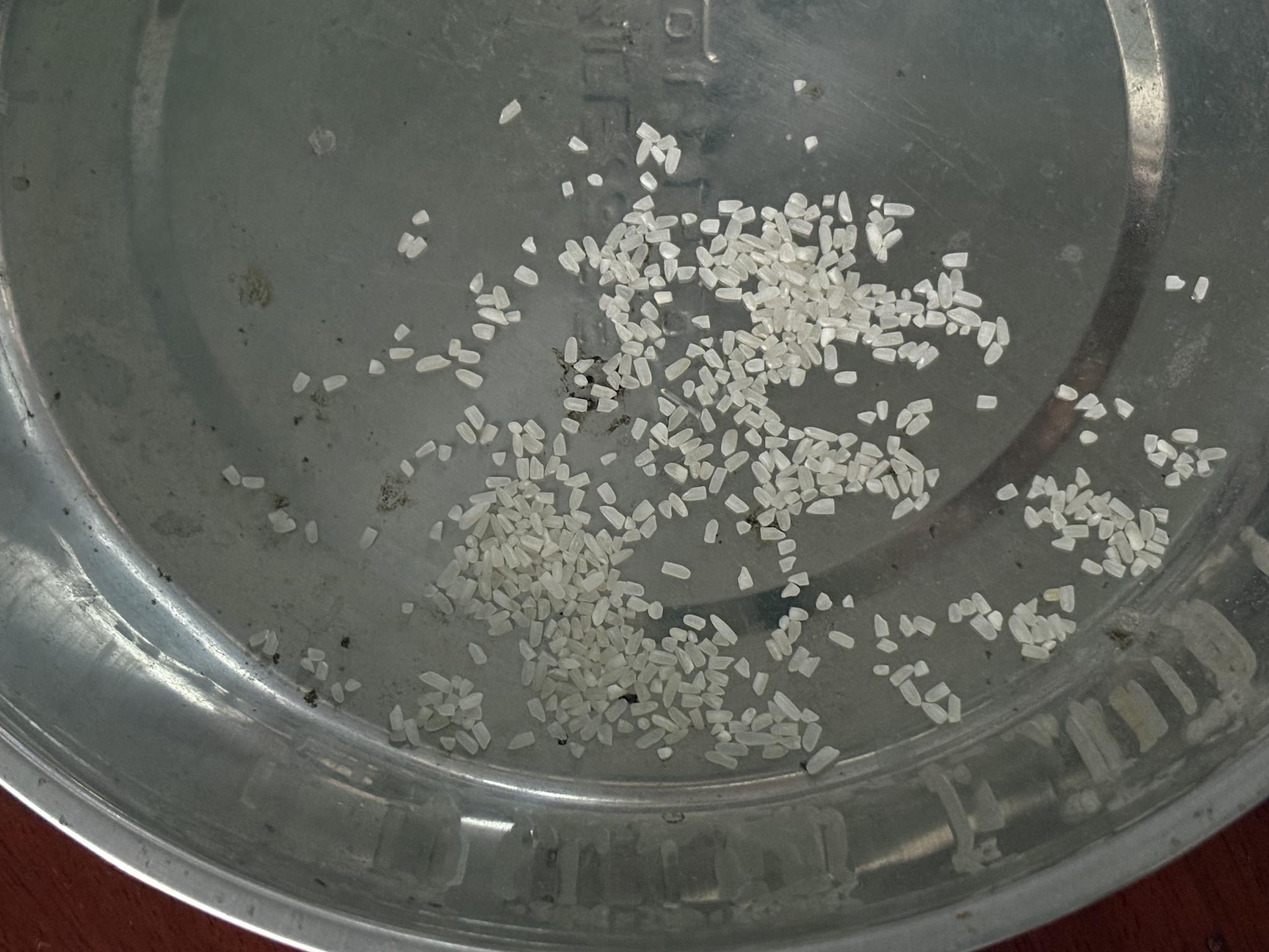Rice-th-y-nh: (805, 745, 840, 775), (457, 501, 490, 531), (709, 613, 738, 645), (774, 690, 802, 722), (419, 670, 454, 695), (1007, 615, 1035, 646), (1110, 531, 1135, 564), (894, 448, 925, 473), (947, 306, 982, 328), (492, 588, 521, 614), (635, 726, 666, 750), (683, 442, 714, 466), (703, 749, 738, 770), (970, 615, 998, 641), (683, 640, 708, 669), (437, 559, 461, 589), (1065, 490, 1094, 514), (711, 265, 740, 288), (470, 721, 493, 750), (590, 596, 612, 626), (773, 212, 794, 243), (454, 730, 480, 755), (599, 505, 626, 529), (664, 357, 691, 381), (604, 222, 627, 250), (456, 578, 479, 606), (401, 718, 424, 746), (924, 681, 952, 704), (864, 223, 884, 255), (1123, 521, 1145, 550), (651, 713, 681, 734), (698, 366, 719, 396), (604, 698, 629, 723), (868, 209, 893, 234), (1109, 497, 1135, 521), (787, 646, 811, 672), (740, 232, 771, 252), (478, 306, 509, 326), (791, 437, 813, 465), (771, 628, 793, 656), (944, 694, 965, 723), (633, 357, 654, 386), (889, 664, 914, 688), (667, 706, 692, 730), (529, 662, 549, 692), (742, 387, 769, 409), (801, 338, 823, 365), (674, 647, 695, 675), (662, 146, 683, 174), (916, 346, 940, 370), (664, 461, 689, 484), (445, 575, 468, 600), (905, 413, 930, 436), (668, 427, 694, 449), (605, 626, 627, 652), (666, 405, 688, 431), (629, 699, 659, 718), (976, 321, 997, 348), (471, 512, 492, 539), (624, 628, 645, 655), (735, 330, 763, 350), (455, 368, 483, 388), (891, 497, 915, 520), (631, 499, 655, 522), (724, 451, 749, 473), (526, 696, 547, 722), (708, 467, 728, 494), (1135, 549, 1162, 569), (796, 465, 816, 492), (1021, 642, 1049, 661), (640, 317, 663, 340), (1088, 496, 1112, 518), (520, 433, 544, 455), (564, 239, 586, 263), (464, 405, 485, 430), (667, 492, 688, 517), (636, 122, 661, 143), (630, 243, 650, 269), (880, 474, 900, 500), (780, 267, 806, 287), (634, 139, 654, 165), (452, 544, 471, 571), (828, 630, 855, 649), (753, 284, 780, 303), (527, 620, 546, 647), (558, 251, 580, 274), (455, 421, 477, 444), (798, 656, 821, 678), (459, 691, 483, 712), (725, 493, 749, 514), (750, 712, 774, 733), (609, 547, 634, 567), (788, 216, 813, 236), (500, 544, 520, 569), (596, 722, 616, 747), (261, 630, 280, 656), (895, 299, 924, 316), (750, 461, 771, 484), (913, 615, 936, 636), (467, 642, 488, 665), (700, 691, 724, 711), (723, 218, 743, 242), (639, 515, 659, 539), (469, 489, 497, 506), (492, 285, 511, 310), (704, 668, 729, 687), (590, 383, 616, 401), (817, 315, 848, 330), (971, 593, 992, 615), (626, 321, 648, 342), (756, 506, 778, 527), (757, 265, 779, 286), (703, 348, 724, 370), (612, 321, 633, 343), (638, 663, 659, 685), (406, 237, 427, 259), (771, 448, 791, 471), (695, 245, 715, 268), (512, 494, 532, 517), (764, 639, 784, 662), (597, 482, 617, 505), (582, 571, 605, 591), (414, 705, 434, 728), (602, 352, 622, 375), (678, 436, 702, 455), (633, 679, 652, 703), (732, 205, 756, 224), (758, 405, 782, 424), (1027, 475, 1046, 499), (872, 614, 891, 638), (1074, 393, 1099, 411), (519, 534, 544, 552), (534, 597, 552, 622), (715, 286, 743, 302), (1062, 523, 1090, 539), (563, 396, 589, 413), (682, 485, 708, 502), (1157, 439, 1178, 460), (698, 267, 719, 288), (737, 253, 758, 274), (727, 359, 747, 381), (524, 419, 546, 439), (495, 487, 515, 509), (733, 403, 753, 425), (479, 423, 499, 445), (868, 460, 890, 480), (907, 342, 929, 362), (621, 339, 644, 358), (753, 486, 772, 509), (1102, 559, 1125, 578), (898, 614, 917, 637), (651, 422, 670, 445), (695, 384, 714, 407), (631, 650, 650, 673), (626, 595, 650, 613), (699, 409, 717, 433), (759, 526, 786, 542), (728, 375, 755, 391), (942, 252, 969, 268), (567, 700, 591, 718), (528, 456, 546, 480), (819, 482, 844, 499), (615, 283, 636, 303), (697, 638, 718, 658), (826, 267, 846, 288), (862, 324, 883, 344), (656, 397, 677, 417), (1115, 397, 1135, 418), (562, 514, 583, 534), (617, 669, 638, 689), (1084, 402, 1107, 420), (630, 417, 648, 440), (896, 470, 914, 493), (860, 441, 884, 458), (560, 693, 584, 710), (1052, 535, 1076, 552), (617, 353, 634, 377), (485, 475, 512, 490), (496, 514, 516, 534), (497, 506, 522, 522), (882, 229, 902, 249), (837, 251, 857, 271), (744, 411, 765, 430), (518, 639, 537, 660), (640, 301, 659, 322), (758, 451, 776, 473), (997, 483, 1019, 501), (895, 408, 913, 430), (777, 462, 799, 480), (659, 241, 681, 259), (683, 613, 706, 630), (627, 275, 650, 292), (689, 708, 706, 731), (775, 508, 792, 531), (569, 487, 586, 510), (854, 452, 877, 469), (632, 195, 655, 212), (487, 609, 510, 626), (764, 434, 788, 450), (873, 346, 897, 362), (1105, 546, 1124, 566), (639, 172, 658, 192), (415, 440, 436, 458), (634, 448, 655, 466), (544, 455, 562, 476), (734, 657, 752, 678), (796, 323, 814, 344), (1081, 558, 1103, 575), (1056, 384, 1078, 401), (605, 568, 621, 591), (542, 514, 565, 530), (778, 555, 797, 574), (511, 610, 530, 629), (744, 427, 762, 447), (510, 434, 525, 458), (852, 284, 872, 302), (898, 341, 918, 359), (515, 457, 530, 481), (397, 232, 414, 253), (876, 637, 898, 653), (596, 397, 618, 413), (558, 529, 574, 551), (875, 302, 897, 318), (469, 272, 485, 294), (845, 460, 861, 482), (389, 346, 414, 360), (242, 475, 265, 490), (804, 456, 823, 474), (1174, 462, 1193, 480), (1130, 558, 1148, 577), (1051, 510, 1068, 530), (685, 342, 705, 359), (479, 536, 499, 553), (699, 461, 716, 481), (676, 265, 696, 282), (1074, 467, 1091, 487), (571, 509, 592, 525), (764, 420, 785, 436), (780, 582, 801, 598), (788, 606, 809, 622), (1145, 539, 1166, 555), (582, 667, 598, 688), (700, 218, 721, 234), (1147, 451, 1168, 467), (1098, 519, 1114, 540), (575, 553, 590, 575), (788, 571, 810, 586), (878, 315, 900, 330), (550, 561, 565, 583), (435, 702, 457, 717), (976, 395, 998, 410), (1152, 527, 1170, 545), (819, 457, 837, 475), (761, 334, 779, 352), (716, 394, 733, 413), (649, 145, 666, 164), (669, 626, 688, 643), (800, 487, 819, 504), (741, 292, 757, 312), (692, 314, 712, 330), (1043, 476, 1059, 496), (569, 136, 589, 152), (621, 528, 642, 543), (620, 375, 641, 390), (856, 296, 877, 311), (816, 268, 831, 289), (729, 389, 746, 407), (890, 458, 908, 475), (738, 343, 756, 360), (644, 262, 662, 279), (562, 600, 578, 619), (865, 478, 884, 494), (692, 671, 708, 690), (576, 600, 595, 616), (745, 357, 765, 372), (607, 371, 622, 391), (535, 490, 555, 505), (654, 290, 674, 305), (681, 379, 696, 399), (574, 359, 595, 373), (714, 368, 731, 385), (788, 499, 804, 517), (555, 463, 570, 482), (307, 647, 326, 662), (829, 463, 848, 478), (706, 683, 726, 697), (876, 400, 890, 420), (787, 426, 805, 441), (400, 459, 415, 477), (1065, 483, 1078, 503), (845, 480, 863, 494), (869, 283, 888, 296), (491, 451, 507, 466), (767, 369, 782, 385), (649, 678, 664, 694), (1086, 512, 1102, 527), (539, 505, 556, 519), (642, 637, 656, 653), (623, 515, 637, 531)
